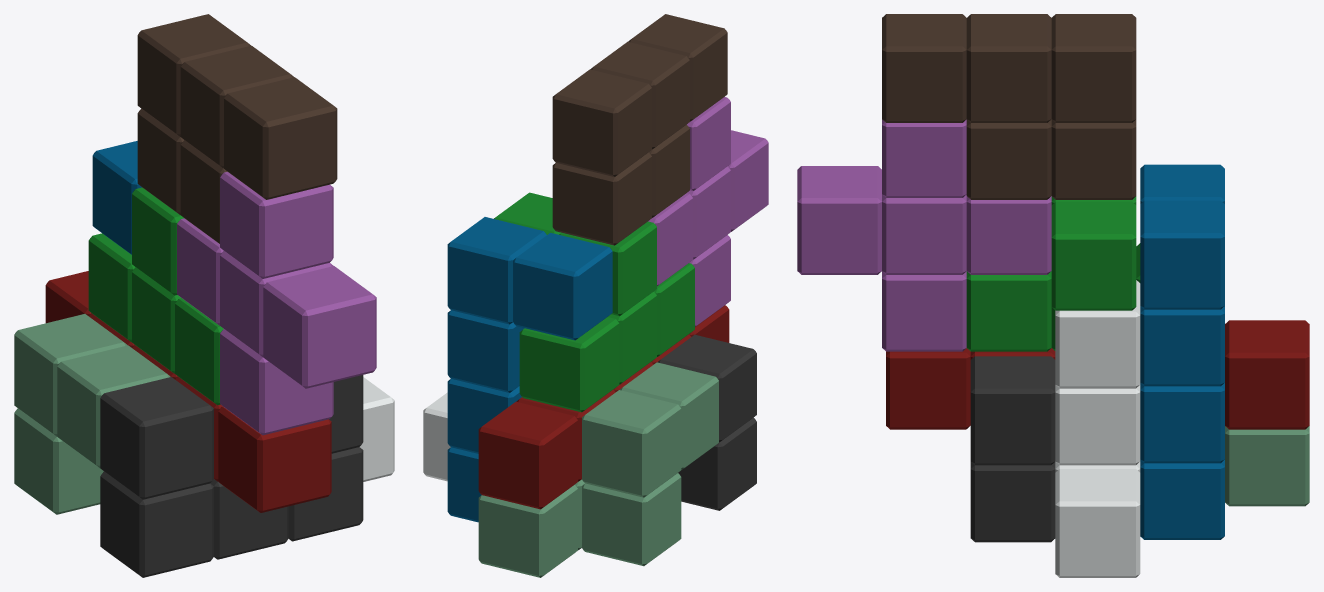
3 views of the same model, side by side, from view 1: azimuth 30°, elevation 25°; view 2: azimuth 150°, elevation 25°; view 3: azimuth 270°, elevation 25° (orthographic). The views are drawn at different scales.
Visible parts, largest first — view 1: Cube.026, Cube.033, Cube.008, Cube.024, Cube.034, Cube.005, Cube.027, Cube.019, Cube.020, Cube.007, Cube.010, Cube.022 (+15 smaller); view 2: Cube.002, Cube.019, Cube.010, Cube.038, Cube.055, Cube.022, Cube.021, Cube.011, Cube.037, Cube.036, Cube.007, Cube.020 (+18 smaller); view 3: Cube.030, Cube.059, Cube.045, Cube.007, Cube.010, Cube.002, Cube.037, Cube.008, Cube.026, Cube.042, Cube.005, Cube.044 (+13 smaller).
Part boxes in pixels (x1,y1,x2,y2): Cube.026: (263,266,376,388); Cube.033: (100,377,213,499); Cube.008: (224,77,337,199); Cube.024: (220,171,333,278); Cube.034: (100,471,213,577); Cube.005: (218,406,331,512); Cube.027: (220,329,333,435); Cube.019: (14,314,127,436); Cube.020: (57,345,170,467); Cube.007: (180,45,293,168); Cube.010: (137,14,250,136); Cube.022: (14,408,103,514); Cube.002: (478,401,577,509); Cube.019: (582,390,681,497); Cube.010: (552,69,651,176); Cube.038: (513,233,612,340); Cube.055: (519,317,619,412); Cube.022: (582,473,681,566); Cube.021: (478,484,577,577); Cube.011: (552,152,651,245); Cube.037: (447,217,546,324); Cube.036: (447,310,524,392); Cube.007: (590,41,689,149); Cube.020: (620,362,718,469); Cube.030: (970,356,1055,465); Cube.059: (1051,201,1136,310); Cube.045: (1055,469,1140,577); Cube.007: (966,14,1051,122); Cube.010: (1051,14,1136,122); Cube.002: (1225,320,1309,429); Cube.037: (1140,200,1224,309); Cube.008: (882,14,966,122); Cube.026: (797,166,881,274); Cube.042: (1055,280,1140,388); Cube.005: (886,348,970,429); Cube.044: (1055,385,1140,465).
Size of the model in its own units: 8 by 12.03 by 12.09.
